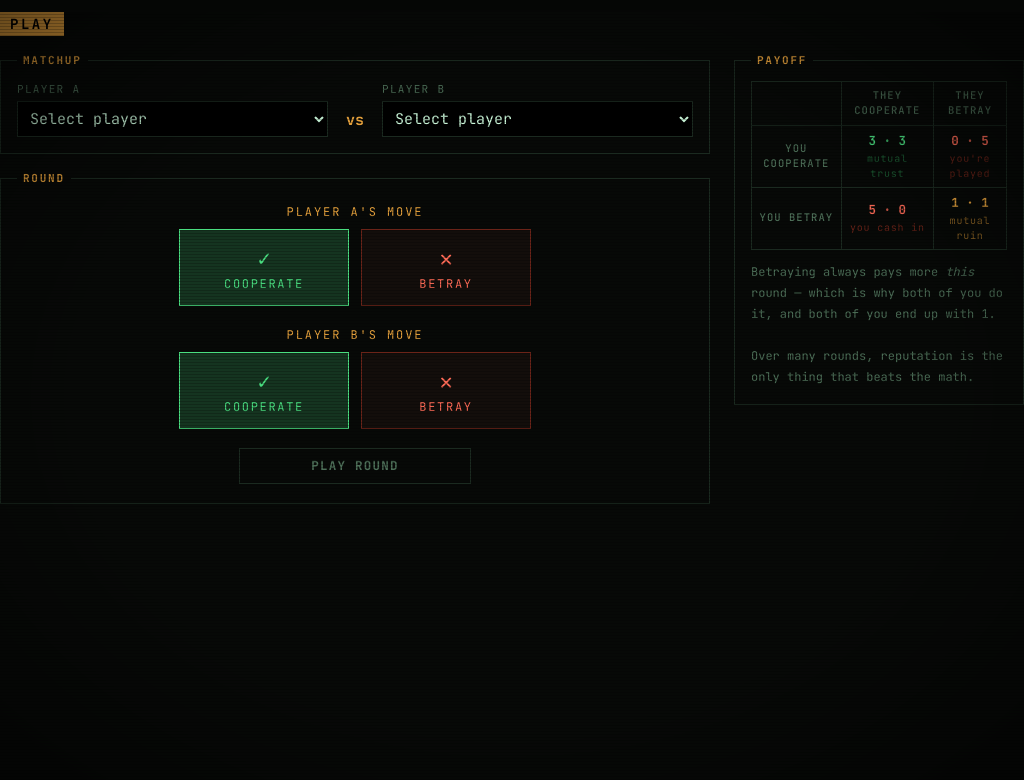
Scenario: PlayPage › submits a play and renders the returned score
Select "Chris" in the dropdown labelled "Player A" at (172, 119), box [17,101,328,137]
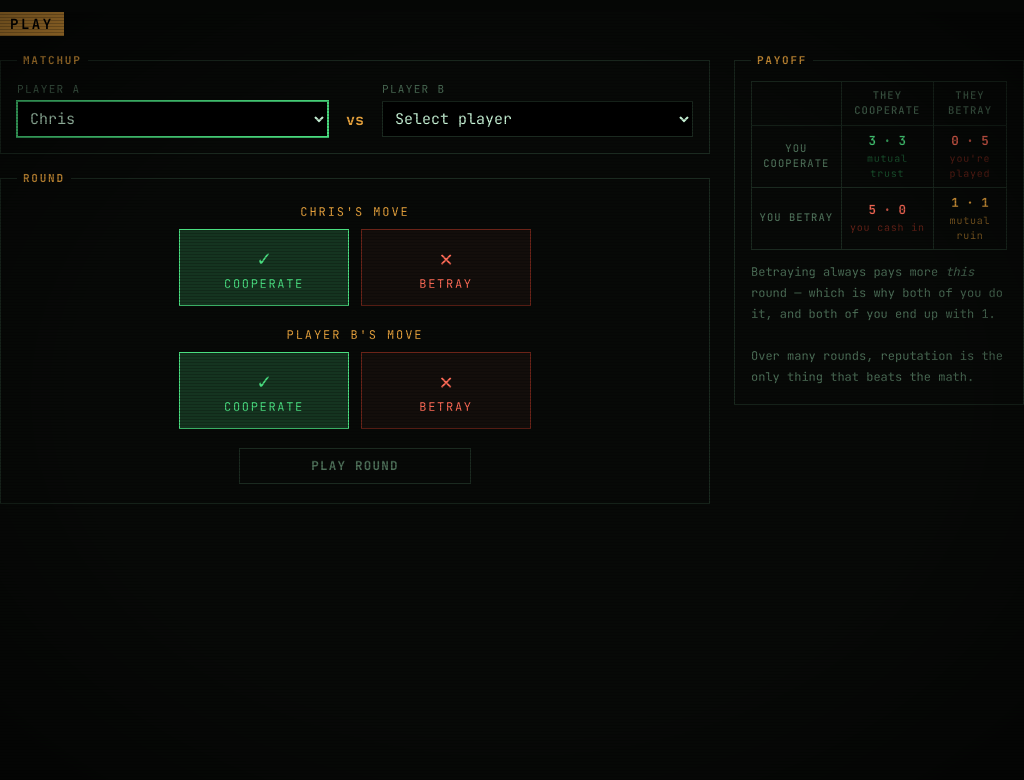
Select "Pepper" in the dropdown labelled "Player B" at (538, 119), box [382,101,693,137]
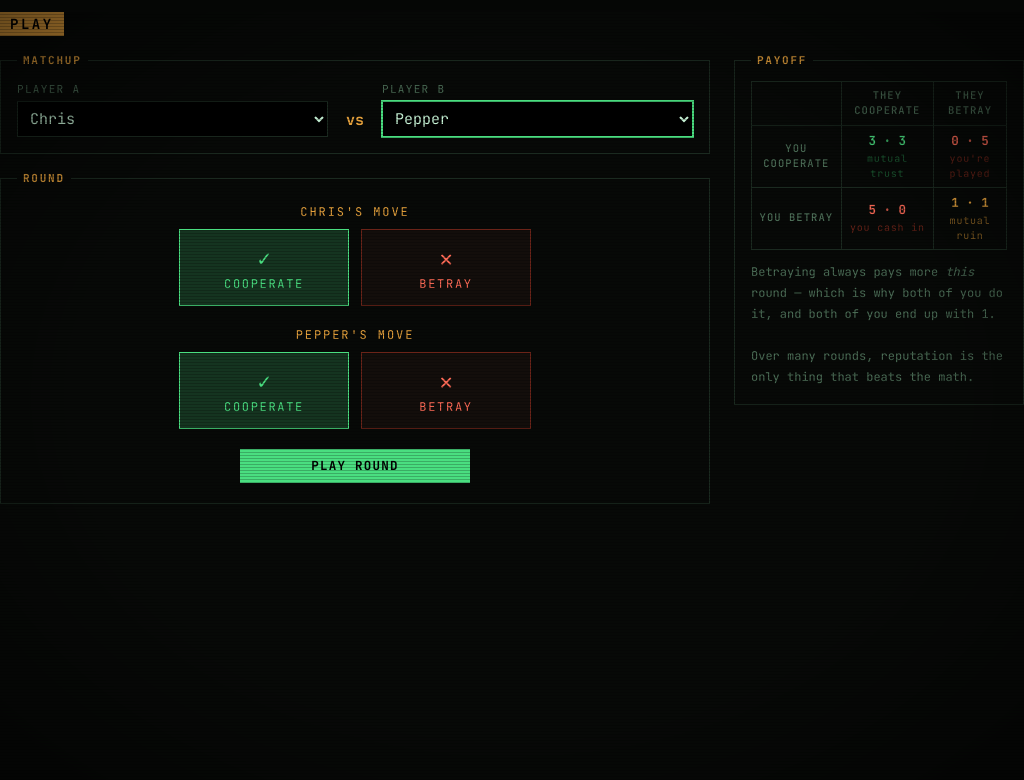
Click the button "Play round" at (355, 466), box [240,448,470,483]
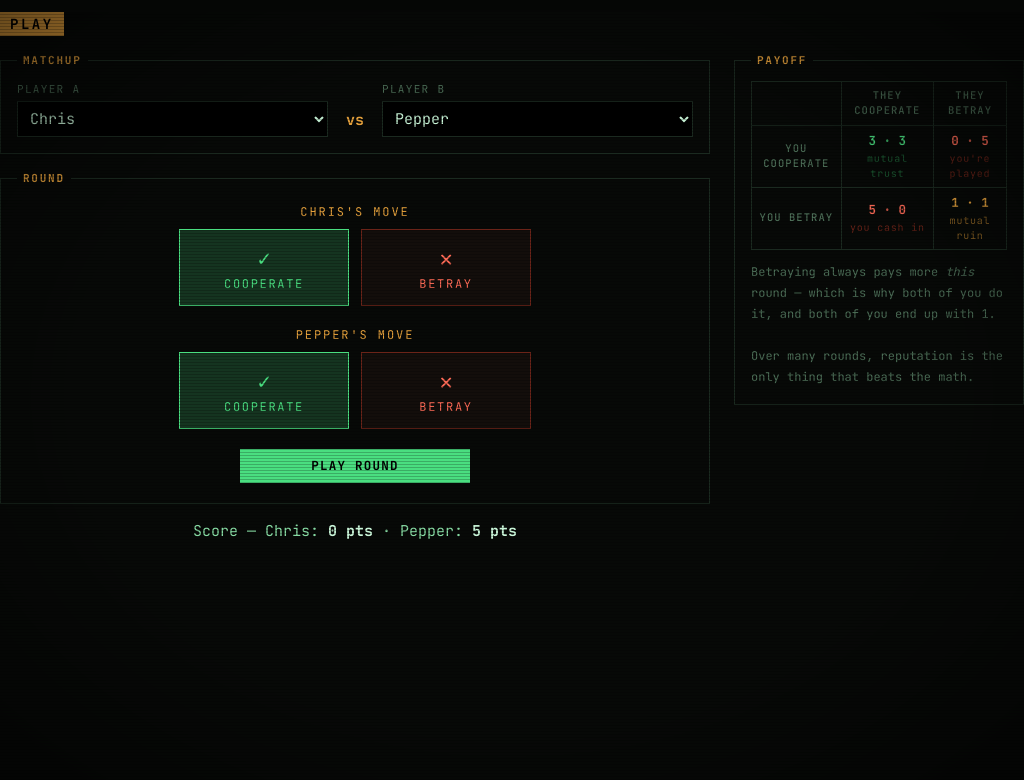
Check: the text "Score — Chris: 0 pts · Pepper: 5 pts" is shown, box [193,521,517,541]
